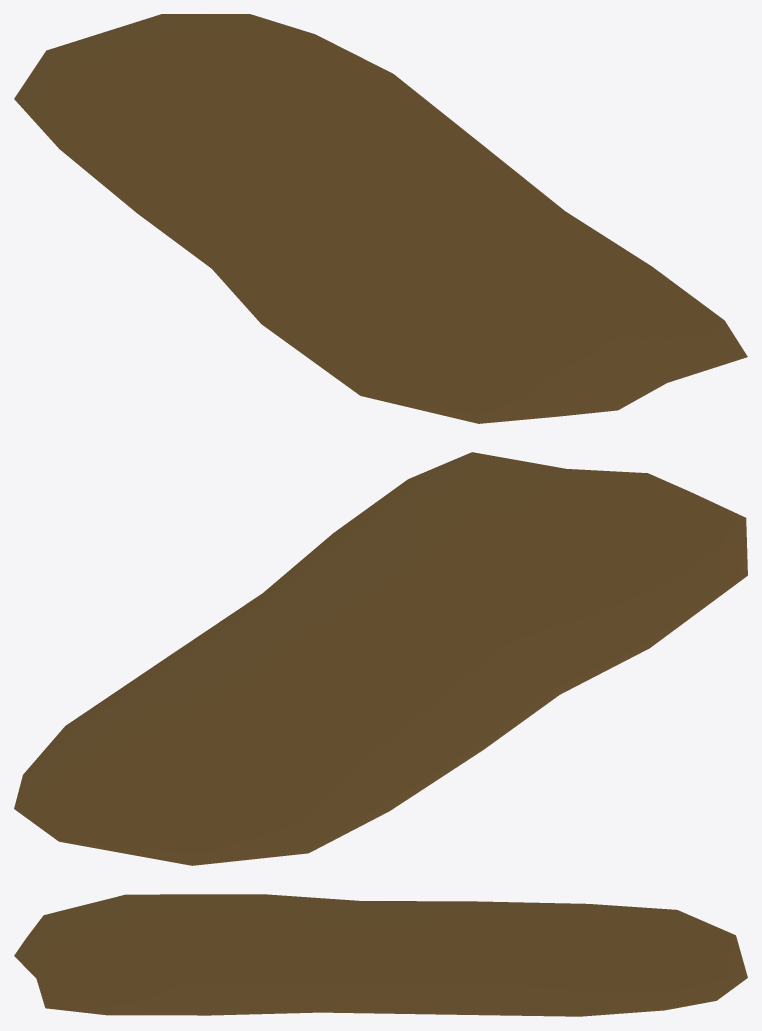
File: Dirt_1.fbx
3 renders of one model, top to bottom at view 1: azimuth 30°, elevation 25°; view 2: azimuth 150°, elevation 25°; view 3: azimuth 270°, elevation 25°, orthographic. The views are drawn at different scales.
Parts seen in each view (by area): view 1: Dirt1; view 2: Dirt1; view 3: Dirt1.
Boxes of the visible parts, <box> form: Dirt1: <box>14,14,747,423</box>; Dirt1: <box>14,452,747,865</box>; Dirt1: <box>14,894,747,1016</box>.
Bounding box in the file's own units: 1425 × 10.71 × 3611.
Materials: 1 (1 with a texture image).
